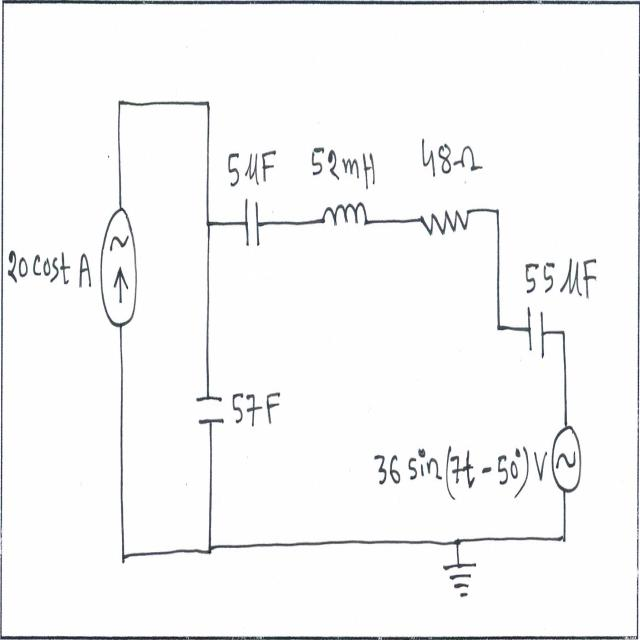ac_current: (550, 420, 586, 503)
capacitor: (192, 384, 227, 436), (241, 190, 263, 263), (522, 301, 548, 361)
current_source: (96, 202, 140, 336)
ground: (443, 558, 481, 608)
inductor: (315, 200, 372, 250)
resistor: (414, 210, 477, 248)
